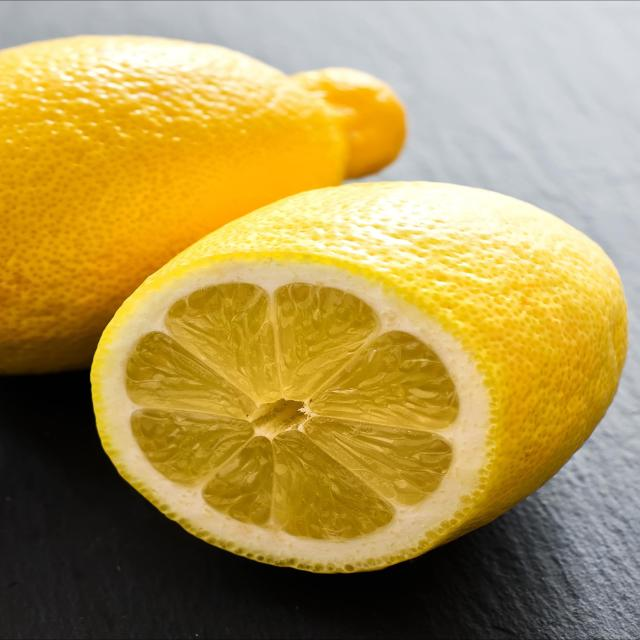lemon: (85, 175, 640, 578)
